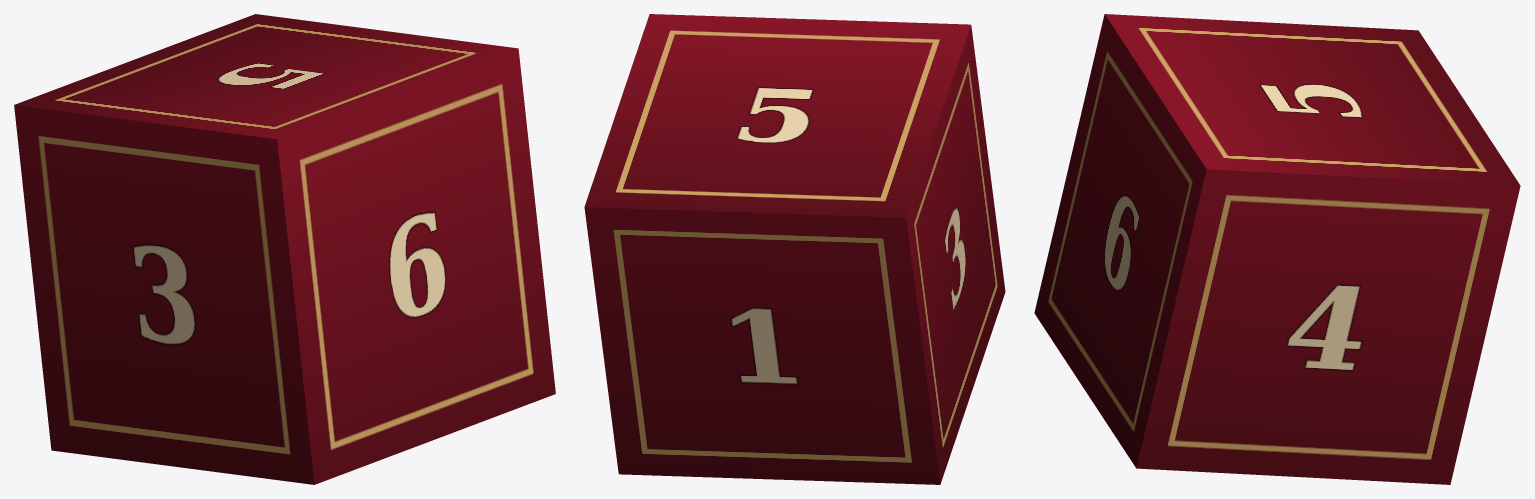
The model's file is ruby_d6.glb.
3 renders of one model, left to right at view 1: azimuth 30°, elevation 25°; view 2: azimuth 150°, elevation 25°; view 3: azimuth 270°, elevation 25°, orthographic. The views are drawn at different scales.
Parts seen in each view (by area): view 1: world; view 2: world; view 3: world.
Boxes of the visible parts, x1,y1,x2,y2 form: world: (14, 14, 555, 484); world: (584, 14, 1005, 484); world: (1034, 14, 1520, 484).
Size of the model in its own units: 1.89 by 1.86 by 2.16.
1 material, 1 textured.
